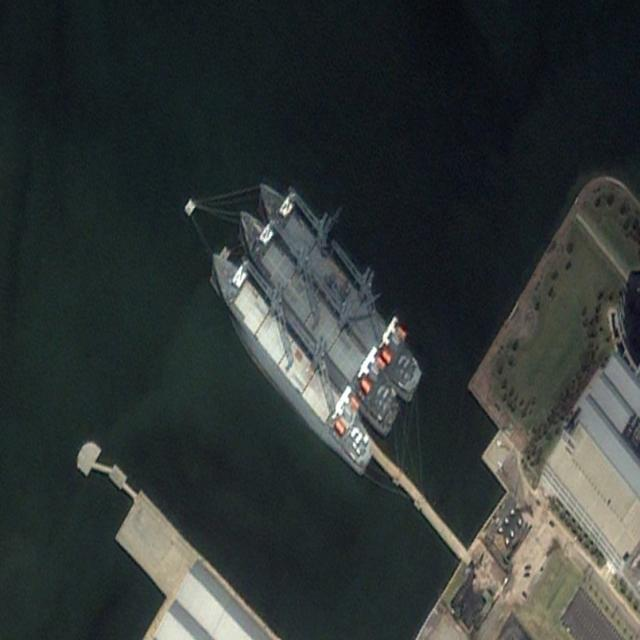Cargo: (193, 232, 390, 485), (222, 191, 413, 442), (245, 160, 433, 404)
